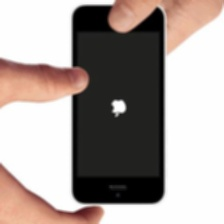phone: (64, 2, 172, 209)
